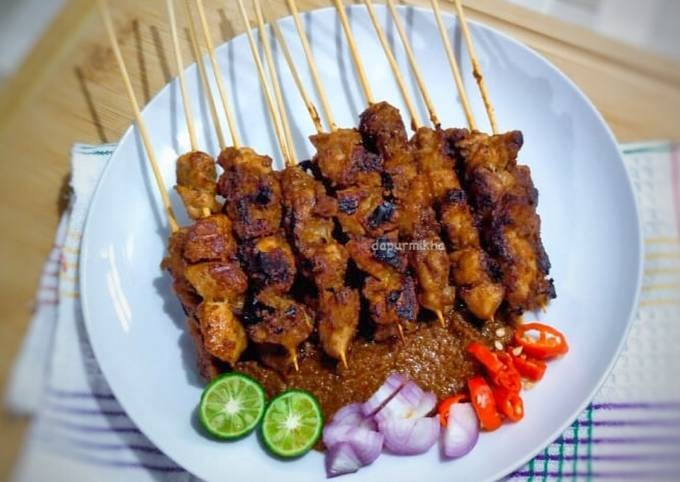sate_madura: (102, 4, 555, 348)
